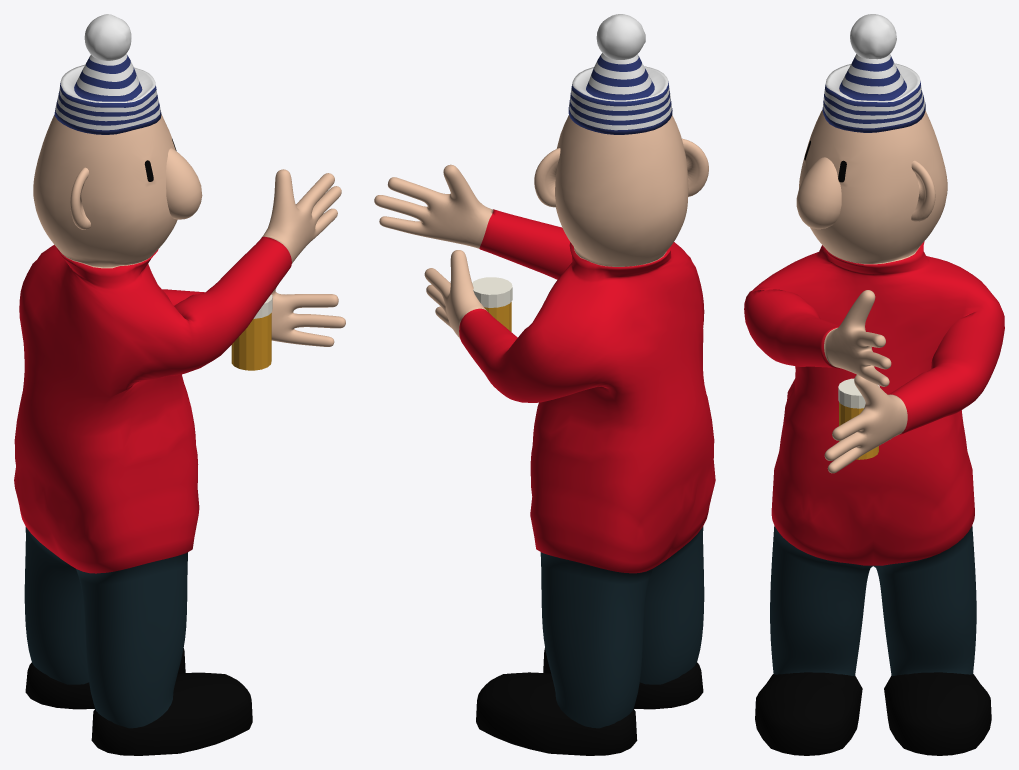
File: mat_toci.glb
The picture shows the model from 3 angles, left to right: view 1: azimuth 30°, elevation 25°; view 2: azimuth 150°, elevation 25°; view 3: azimuth 270°, elevation 25°; orthographic projection.
Bounding box in the file's own units: 0.7432 × 1.62 × 0.549.
